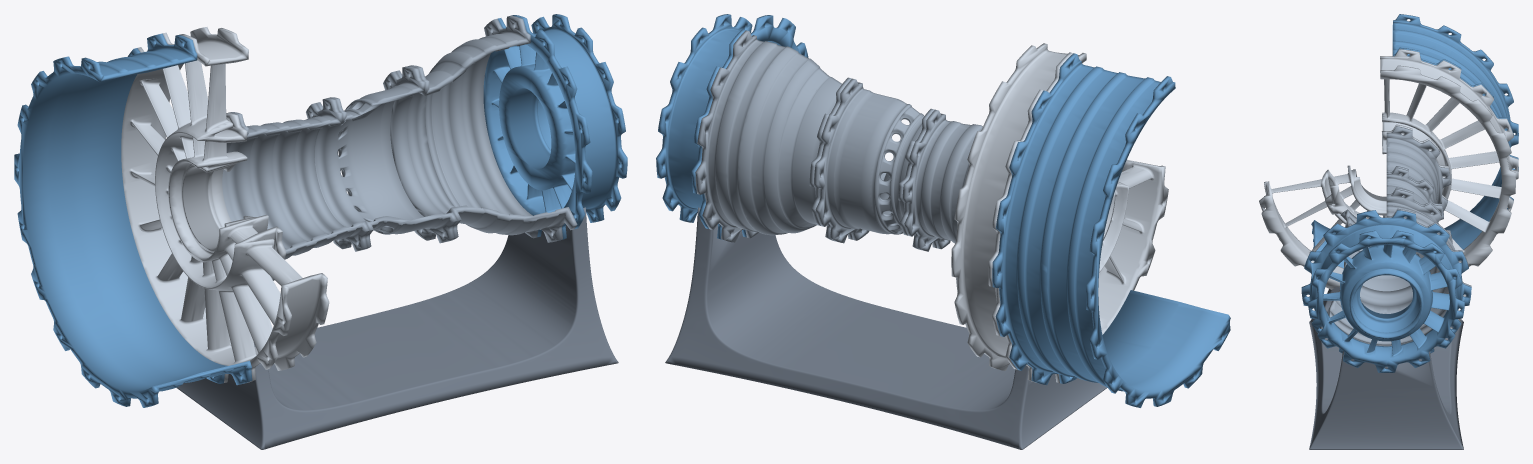
Rendered from L1_nacelle_casings.glb.
3 renders of one model, left to right at view 1: azimuth 30°, elevation 25°; view 2: azimuth 150°, elevation 25°; view 3: azimuth 270°, elevation 25°, orthographic. The views are drawn at different scales.
Visible parts, largest first — view 1: L1_Engine_Mount_Stand, L1_Fan_Casing_Cutaway, L1_Fan_Stator_Frame, L1_Exhaust_Nozzle, L1_LPT_Casing, L1_Combustion_HPT_Casing, L1_HP_Core_Casing; view 2: L1_Fan_Casing_Cutaway, L1_Engine_Mount_Stand, L1_LPT_Casing, L1_Fan_Stator_Frame, L1_Combustion_HPT_Casing, L1_Exhaust_Nozzle, L1_HP_Core_Casing; view 3: L1_Exhaust_Nozzle, L1_Fan_Stator_Frame, L1_Engine_Mount_Stand, L1_Fan_Casing_Cutaway, L1_LPT_Casing, L1_HP_Core_Casing, L1_Combustion_HPT_Casing.
Part boxes in pixels (x1,y1,x2,y2): L1_Engine_Mount_Stand: [176, 207, 618, 449]; L1_Fan_Casing_Cutaway: [14, 33, 252, 407]; L1_Fan_Stator_Frame: [121, 27, 329, 382]; L1_Exhaust_Nozzle: [483, 14, 627, 239]; L1_LPT_Casing: [390, 15, 577, 242]; L1_Combustion_HPT_Casing: [314, 66, 457, 249]; L1_HP_Core_Casing: [222, 98, 369, 280]; L1_Fan_Casing_Cutaway: [992, 53, 1230, 407]; L1_Engine_Mount_Stand: [665, 207, 1107, 449]; L1_LPT_Casing: [695, 30, 886, 242]; L1_Fan_Stator_Frame: [951, 43, 1168, 382]; L1_Combustion_HPT_Casing: [814, 78, 940, 249]; L1_Exhaust_Nozzle: [656, 14, 808, 239]; L1_HP_Core_Casing: [902, 109, 982, 251]; L1_Exhaust_Nozzle: [1301, 210, 1471, 372]; L1_Fan_Stator_Frame: [1259, 49, 1518, 289]; L1_Engine_Mount_Stand: [1309, 287, 1463, 449]; L1_Fan_Casing_Cutaway: [1311, 14, 1518, 267]; L1_LPT_Casing: [1321, 189, 1471, 349]; L1_HP_Core_Casing: [1340, 126, 1450, 247]; L1_Combustion_HPT_Casing: [1343, 167, 1452, 291].
Bounding box in the file's own units: 3.16 × 2.3 × 2.01.
